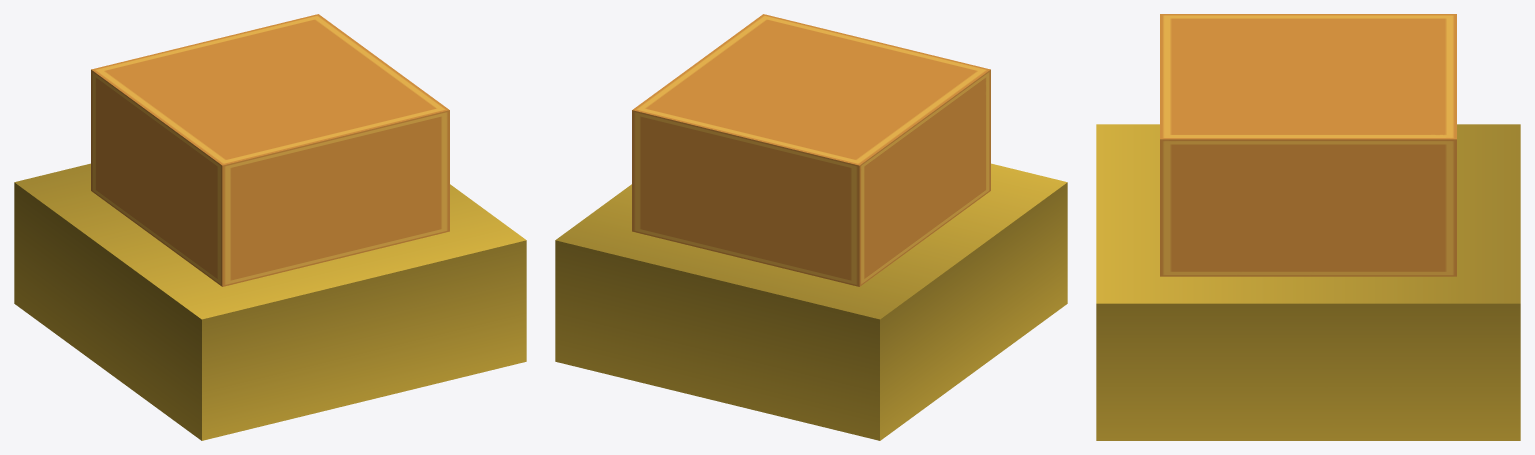
Rendered from LGT_Chandelier.glb.
3 views of the same model, side by side, from view 1: azimuth 30°, elevation 25°; view 2: azimuth 150°, elevation 25°; view 3: azimuth 270°, elevation 25° (orthographic). The views are drawn at different scales.
Visible parts, largest first — view 1: LGT_Chandelier; view 2: LGT_Chandelier; view 3: LGT_Chandelier.
Boxes of the visible parts, x1=… form: LGT_Chandelier: x1=14, y1=14, x2=526, y2=440; LGT_Chandelier: x1=555, y1=14, x2=1067, y2=440; LGT_Chandelier: x1=1096, y1=14, x2=1520, y2=440.
Bounding box in the file's own units: 1.4 × 1 × 1.4.
1 material, 1 textured.
